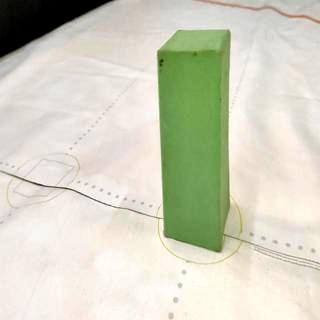greenbox: (158, 30, 230, 254)
